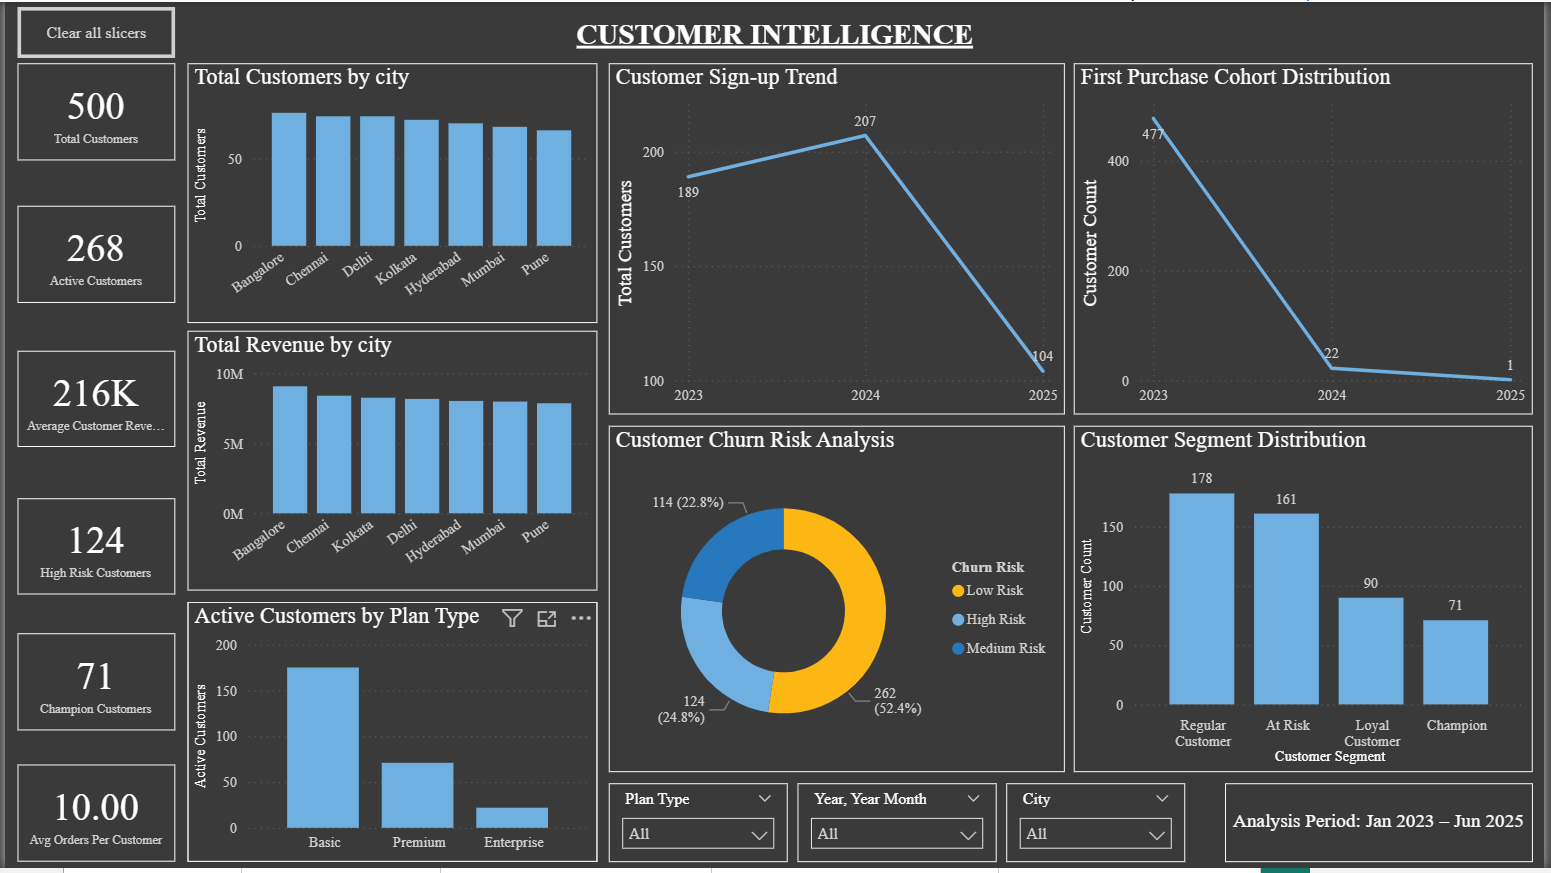

The page's visual inventory and layout, read from the dashboard file:
{"tool":"powerbi","page":{"name":"Customer Intelligence","canvas":[1280,720],"ordinal":1},"visuals":[{"type":"textbox","box":[10.5,8.1,1259.3,43],"z":0},{"type":"card","fields":{"Values":["KPI Measures.Total Customers"]},"box":[4.2,66.5,141.3,81.1],"z":1000},{"type":"card","fields":{"Values":["KPI Measures.Active Customers"]},"box":[4.2,180.8,141.3,81.1],"z":2000},{"type":"card","fields":{"Values":["KPI Measures.Customer Acquisition"]},"box":[4.2,296.2,141.3,79],"z":3000},{"type":"lineStackedColumnComboChart","fields":{"Y":["KPI Measures.Total Customers"],"Category":["customers.city"]},"box":[151.7,50.9,340.9,216.2],"z":4000},{"type":"lineChart","title":"Customer Sign-up Trend","fields":{"Category":["customers.signup_date.Variation.Date Hierarchy.Year","customers.signup_date.Variation.Date Hierarchy.Quarter","customers.signup_date.Variation.Date Hierarchy.Month","customers.signup_date.Variation.Date Hierarchy.Day"],"Y":["KPI Measures.Total Customers"]},"box":[502,50.9,379.3,292],"z":5000},{"type":"clusteredColumnChart","title":"Active Customers by Plan Type","fields":{"Category":["customers.plan_type"],"Y":["KPI Measures.Active Customers"]},"box":[151.7,498.8,340.9,216.2],"z":6000},{"type":"lineStackedColumnComboChart","fields":{"Category":["customers.city"],"Y":["KPI Measures.Total Revenue"]},"box":[151.7,273.3,340.9,216.2],"z":8000},{"type":"card","fields":{"Values":["KPI Measures.Avg Orders Per Customer"]},"box":[4.2,634,141.3,81.1],"z":9000},{"type":"card","fields":{"Values":["KPI Measures.High Risk Customers"]},"box":[4.2,412.6,141.3,80],"z":10000},{"type":"card","fields":{"Values":["KPI Measures.Champion Customers"]},"box":[4.2,524.8,141.3,82.1],"z":11000},{"type":"donutChart","title":"Customer Churn Risk Analysis","fields":{"Category":["churn_risk.churn_risk"],"Y":["CountNonNull(churn_risk.customer_id)"]},"box":[502,352.3,379.3,287.9],"z":12000},{"type":"columnChart","title":"Customer Segment Distribution","fields":{"Category":["rfm_segments.customer_segment"],"Y":["CountNonNull(rfm_segments.customer_id)"]},"box":[888.6,352.3,381.4,287.9],"z":13000},{"type":"lineChart","title":"First Purchase Cohort Distribution","fields":{"Category":["customer_cohort.cohort_month.Variation.Date Hierarchy.Year","customer_cohort.cohort_month.Variation.Date Hierarchy.Quarter","customer_cohort.cohort_month.Variation.Date Hierarchy.Month","customer_cohort.cohort_month.Variation.Date Hierarchy.Day"],"Y":["CountNonNull(customer_cohort.customer_id)"]},"box":[888.6,50.9,381.4,292],"z":14000},{"type":"slicer","fields":{"Values":["Dim_Date.Year","Dim_Date.Year Month"]},"box":[658.9,649.5,165.2,65.5],"z":15000},{"type":"slicer","fields":{"Values":["customers.city"]},"box":[832.5,649.5,148.6,65.5],"z":16000},{"type":"slicer","fields":{"Values":["customers.plan_type"]},"box":[502,649.5,148.6,65.5],"z":17000},{"type":"actionButton","box":[4.2,8.3,141.3,41.6],"z":18000},{"type":"textbox","box":[1014.3,649.5,255.7,65.5],"z":19000}]}

Visuals, with their boxes in screenshot pixels (x1, y1, x2, y2), scaled from the page's 1280x720 canvas onto the 1551x873 screenshot:
textbox: <bbox>13, 10, 1539, 62</bbox>
card - KPI Measures.Total Customers: <bbox>5, 81, 176, 179</bbox>
card - KPI Measures.Active Customers: <bbox>5, 219, 176, 318</bbox>
card - KPI Measures.Customer Acquisition: <bbox>5, 359, 176, 455</bbox>
lineStackedColumnComboChart - KPI Measures.Total Customers x customers.city: <bbox>184, 62, 597, 324</bbox>
"Customer Sign-up Trend" lineChart: <bbox>608, 62, 1068, 416</bbox>
"Active Customers by Plan Type" clusteredColumnChart: <bbox>184, 605, 597, 867</bbox>
lineStackedColumnComboChart - customers.city x KPI Measures.Total Revenue: <bbox>184, 331, 597, 594</bbox>
card - KPI Measures.Avg Orders Per Customer: <bbox>5, 769, 176, 867</bbox>
card - KPI Measures.High Risk Customers: <bbox>5, 500, 176, 597</bbox>
card - KPI Measures.Champion Customers: <bbox>5, 636, 176, 736</bbox>
"Customer Churn Risk Analysis" donutChart: <bbox>608, 427, 1068, 776</bbox>
"Customer Segment Distribution" columnChart: <bbox>1077, 427, 1539, 776</bbox>
"First Purchase Cohort Distribution" lineChart: <bbox>1077, 62, 1539, 416</bbox>
slicer - Dim_Date.Year x Dim_Date.Year Month: <bbox>798, 788, 999, 867</bbox>
slicer - customers.city: <bbox>1009, 788, 1189, 867</bbox>
slicer - customers.plan_type: <bbox>608, 788, 788, 867</bbox>
actionButton: <bbox>5, 10, 176, 61</bbox>
textbox: <bbox>1229, 788, 1539, 867</bbox>
